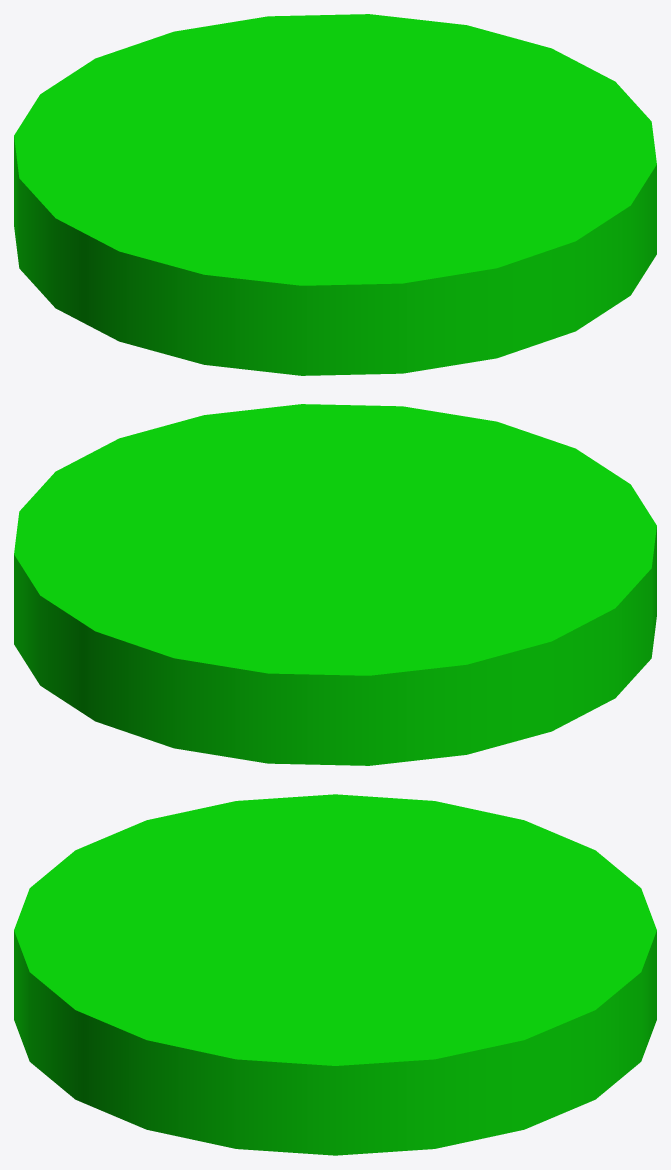
The model's file is yesil.fbx.
The picture shows the model from 3 angles, top to bottom: view 1: azimuth 30°, elevation 25°; view 2: azimuth 150°, elevation 25°; view 3: azimuth 270°, elevation 25°; orthographic projection.
Visible parts, largest first — view 1: pCylinder4; view 2: pCylinder4; view 3: pCylinder4.
Boxes of the visible parts, box(x1,y1,x2,y2) form: pCylinder4: box(14, 14, 656, 375); pCylinder4: box(14, 404, 656, 765); pCylinder4: box(14, 794, 656, 1155).
Size of the model in its own units: 6.28 by 0.9651 by 6.28.
